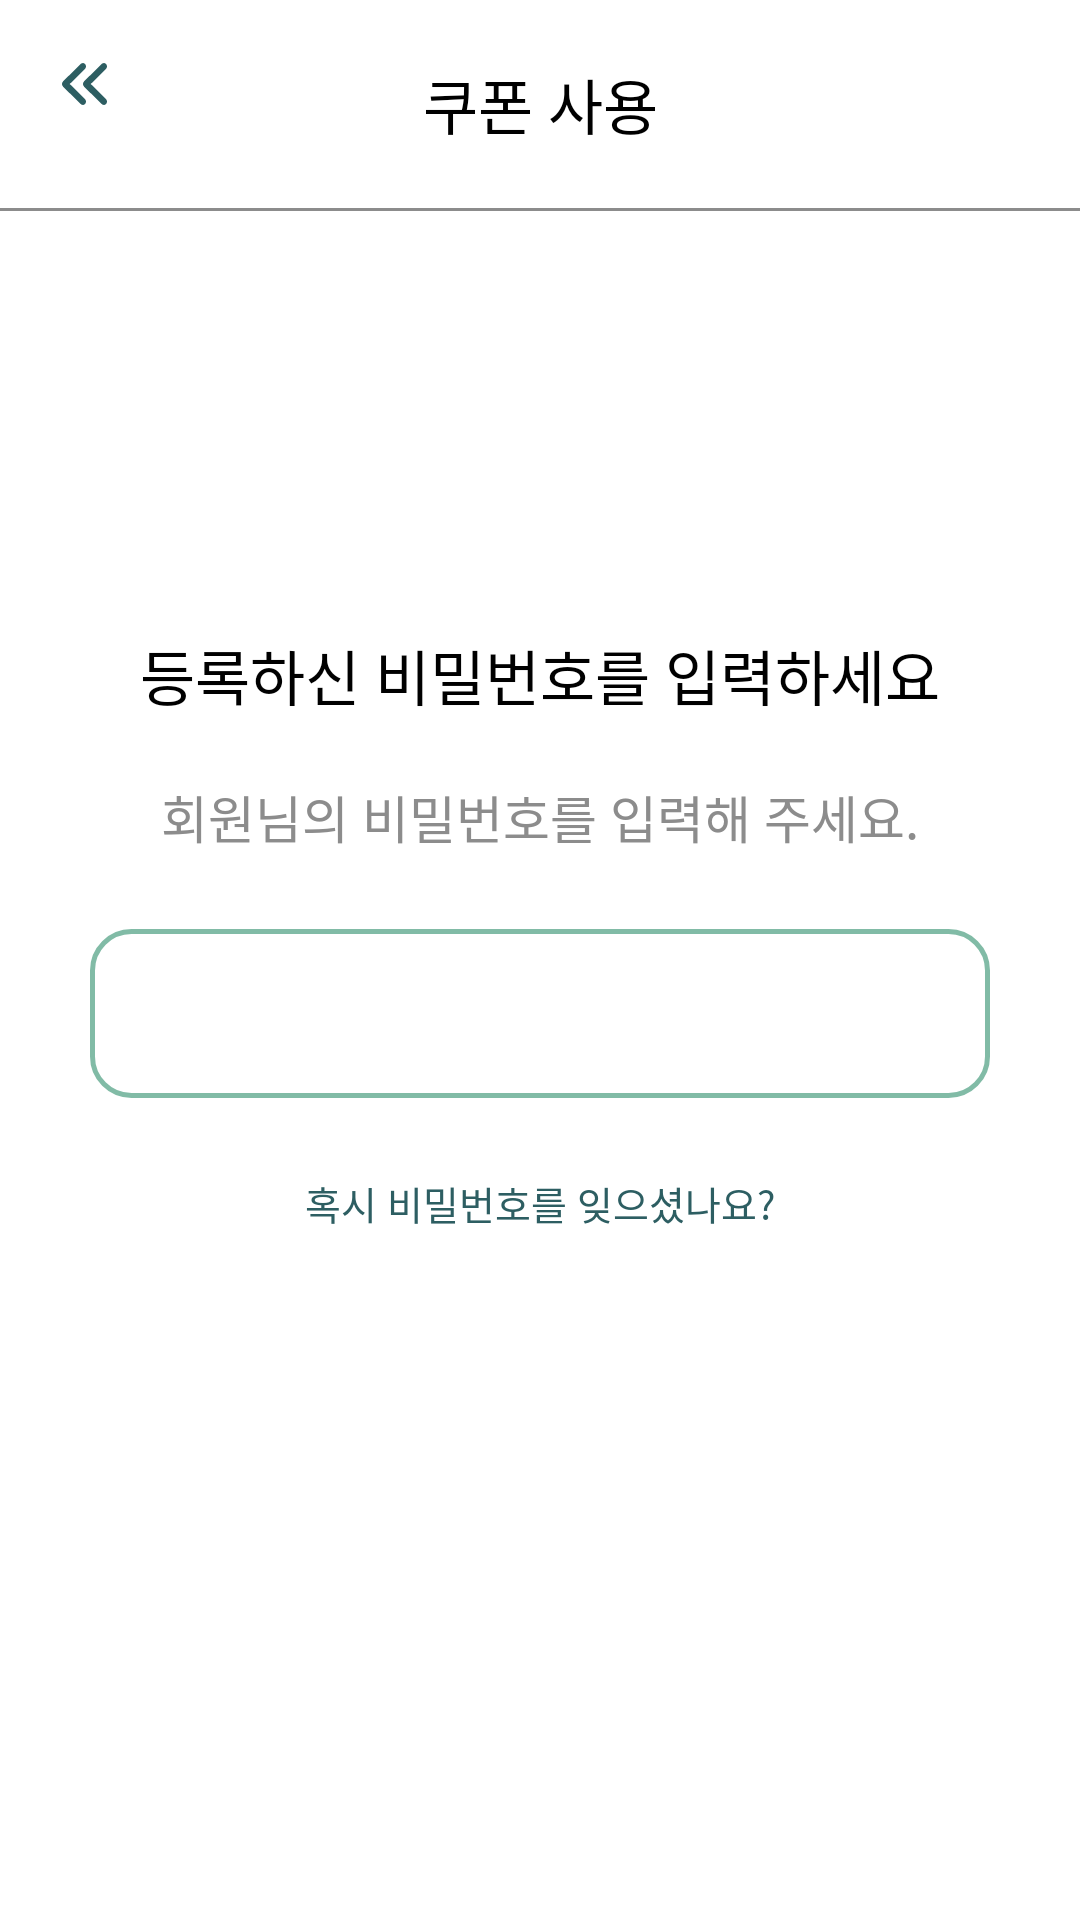

Screen size 1080×1920. Icon name, then its box in pixels as (x1, y1, x2, y2):
left arrow double: (62, 63, 107, 105)
